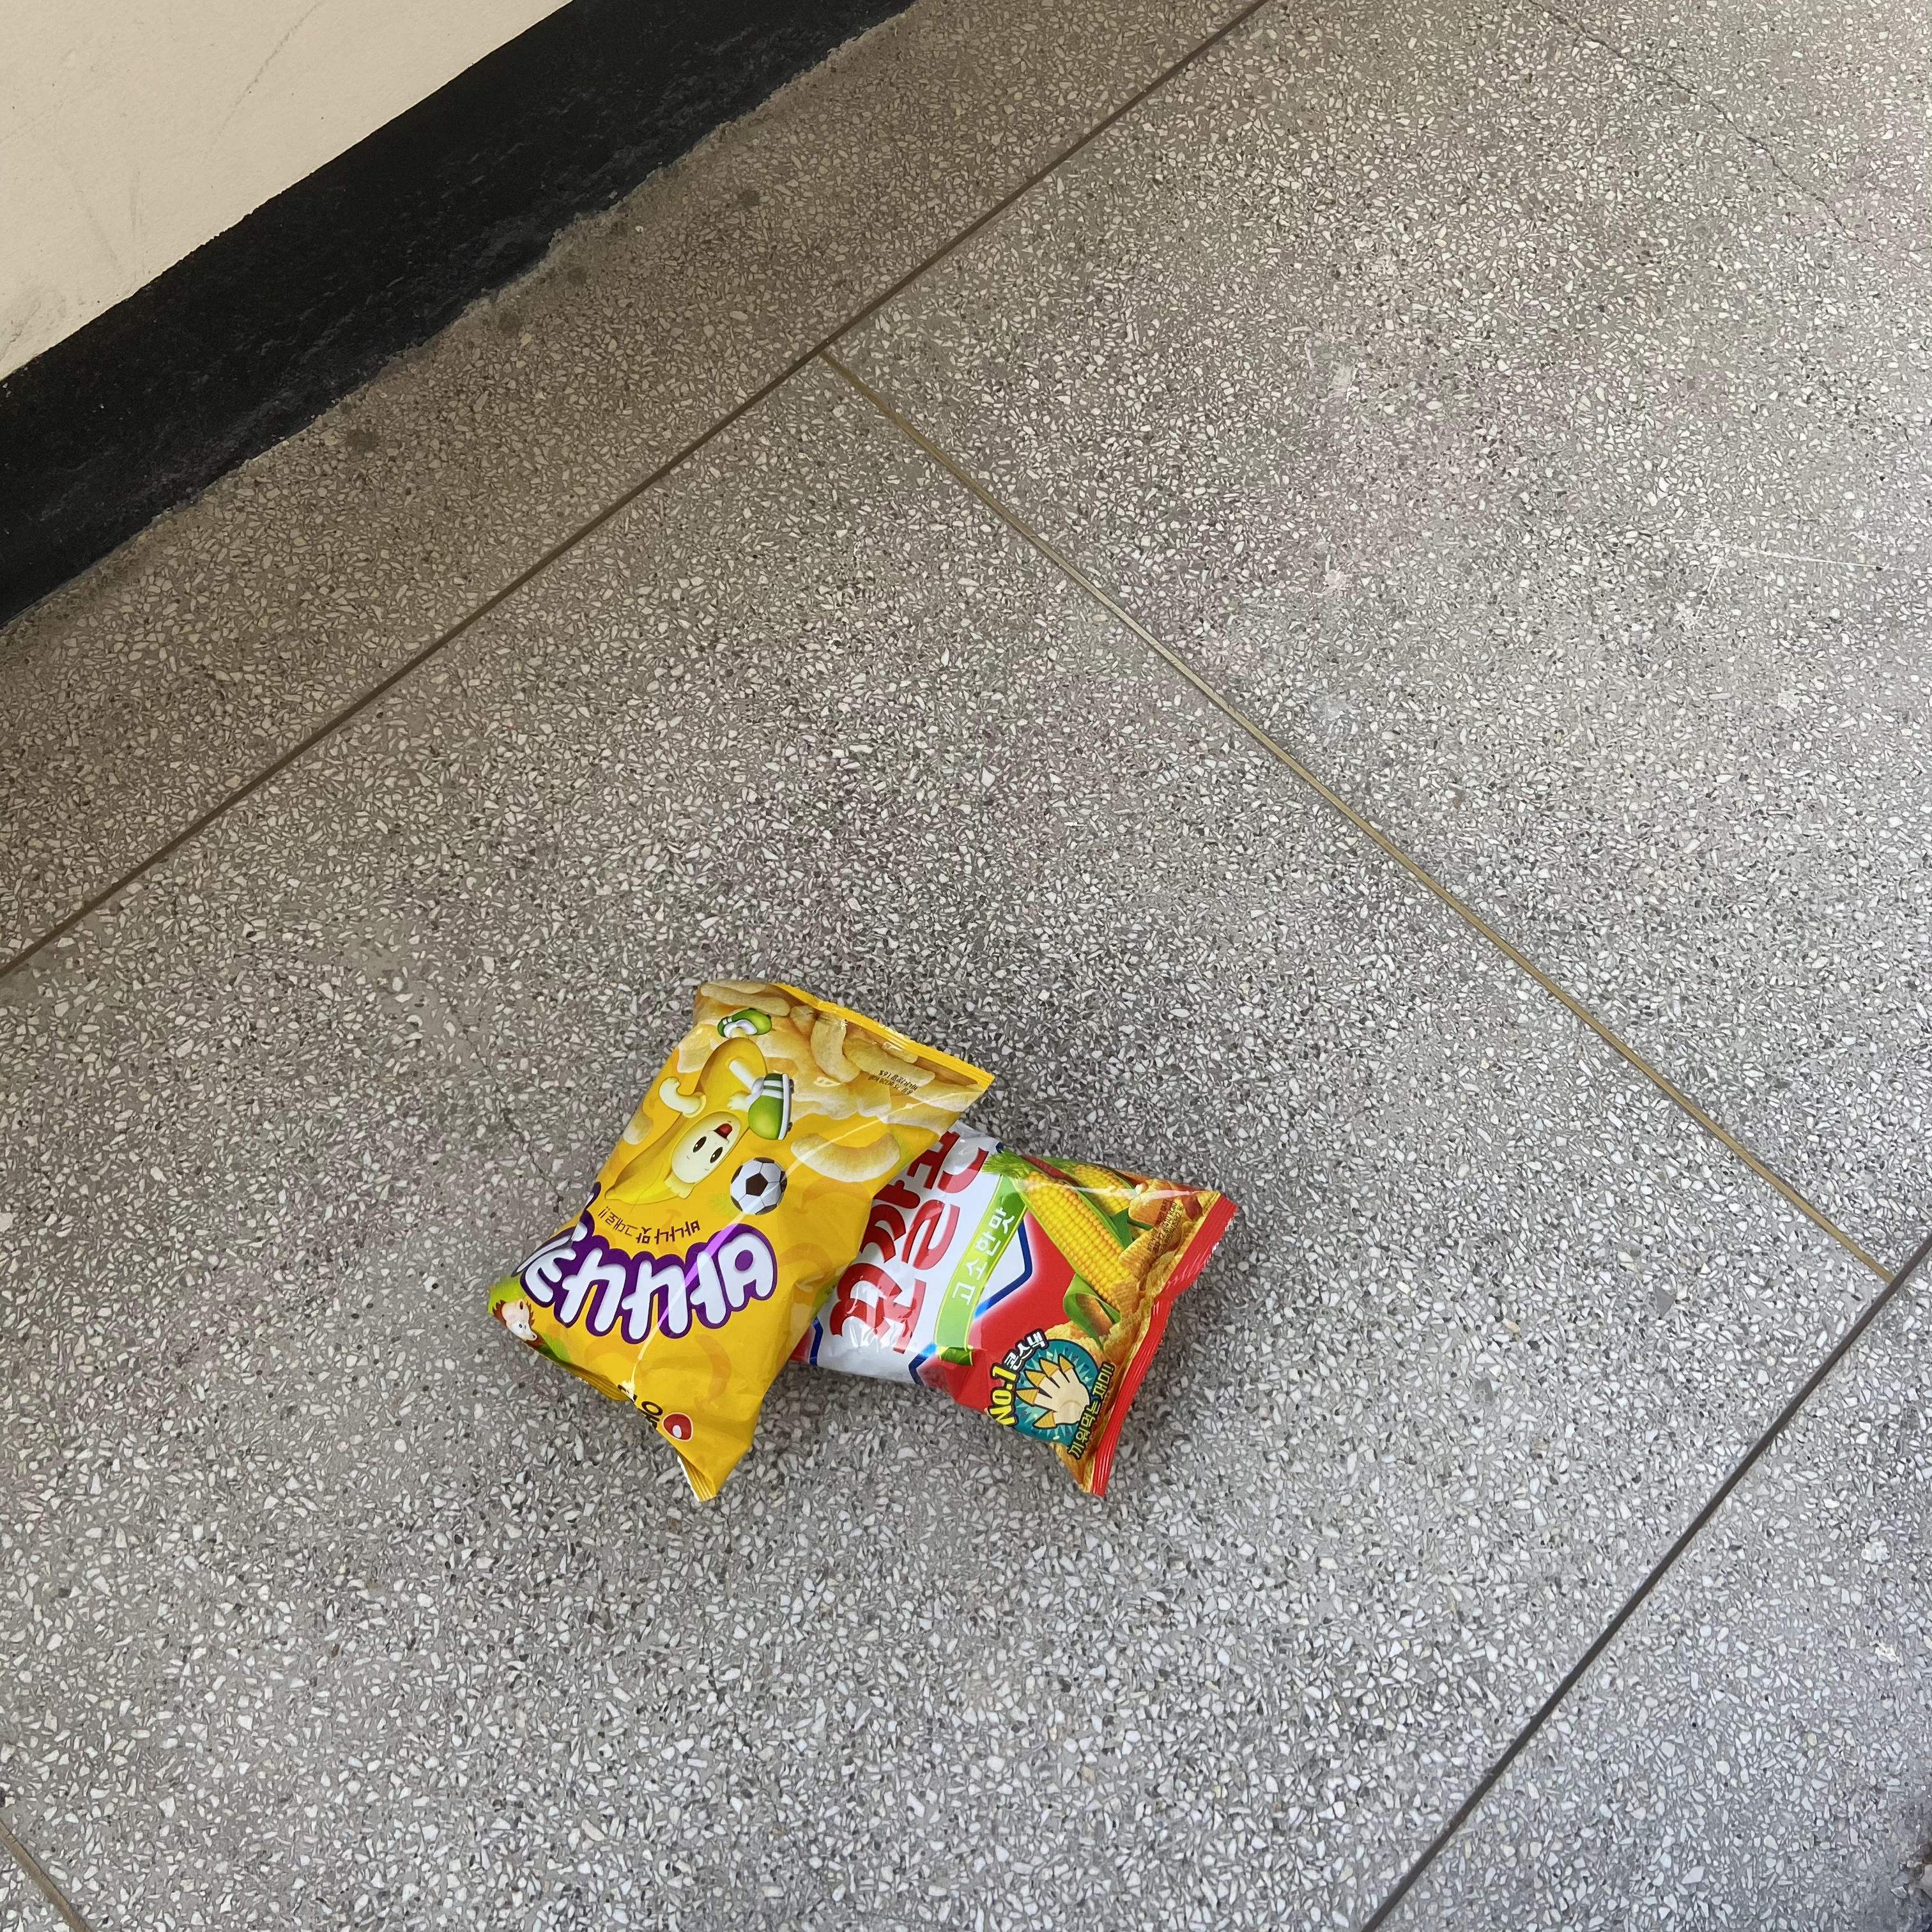banana: (472, 973, 1005, 1527)
ggoggalcon: (782, 1111, 1246, 1511)
